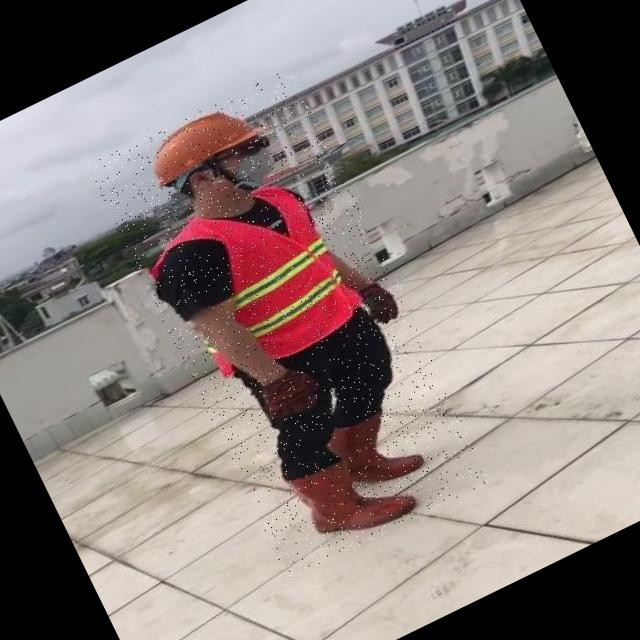hard_hat: (134, 90, 272, 190)
safety_vest: (145, 175, 366, 388)
vehicle: (87, 66, 491, 579)
work_boots: (280, 431, 418, 557), (326, 398, 431, 499)
